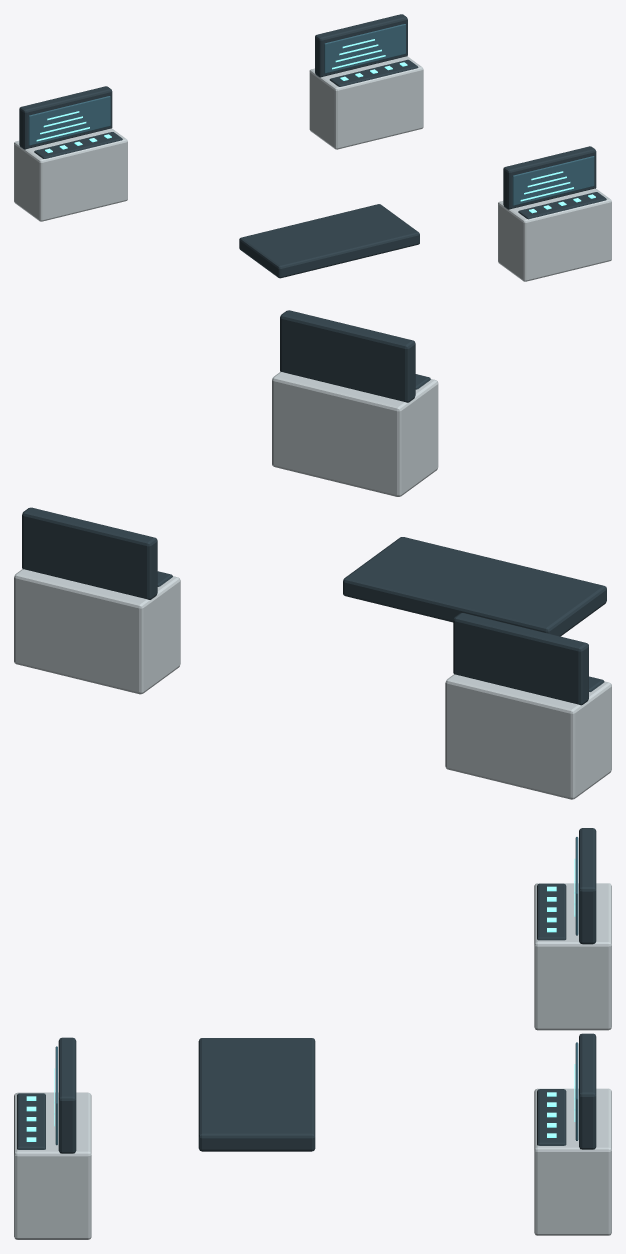
The model's file is repair-interior.glb.
3 views of the same model, one above another, from view 1: azimuth 30°, elevation 25°; view 2: azimuth 150°, elevation 25°; view 3: azimuth 270°, elevation 25° (orthographic). The views are drawn at different scales.
Visible parts, largest first — view 1: Furniture_Ivory, Furniture_Dark, Furniture_Glass, Furniture_Accent; view 2: Furniture_Ivory, Furniture_Dark; view 3: Furniture_Ivory, Furniture_Dark, Furniture_Accent, Furniture_Glass.
Boxes of the visible parts, x1,y1,x2,y2 form: Furniture_Ivory: [14, 56, 611, 281]; Furniture_Dark: [19, 14, 606, 278]; Furniture_Glass: [28, 24, 594, 205]; Furniture_Accent: [36, 39, 595, 213]; Furniture_Ivory: [14, 372, 611, 799]; Furniture_Dark: [22, 310, 606, 705]; Furniture_Ivory: [14, 883, 611, 1239]; Furniture_Dark: [17, 828, 596, 1153]; Furniture_Accent: [26, 858, 575, 1141]; Furniture_Glass: [55, 837, 578, 1145].
Size of the model in its own units: 6.6 by 1.62 by 6.15.
